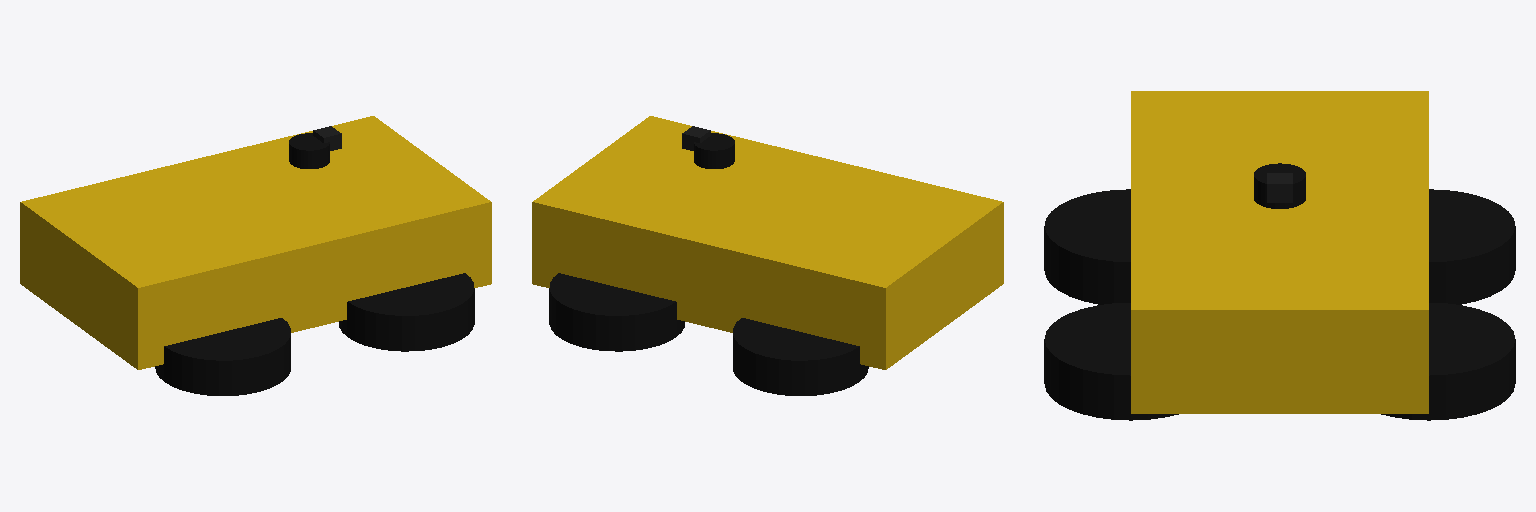
The robot description file, URDF, robot "husky":
<?xml version="1.0"?>
<!--
  Clearpath Husky A200 — self-contained URDF for autosim.

  Dimensions follow Clearpath husky_description (approx. A200):
  https://github.com/husky/husky

  Uses primitive shapes instead of package:// meshes so Habitat / CI can load
  without downloading DAE/STL assets.
-->
<robot name="husky">

  <!-- ===================== Links ===================== -->

  <link name="base_footprint"/>

  <!-- Chassis ~0.99 x 0.67 x 0.20 m; wheel center height ~0.165 m -->
  <link name="base_link">
    <visual>
      <origin xyz="0 0 0.11" rpy="0 0 0"/>
      <geometry>
        <box size="0.987 0.570 0.220"/>
      </geometry>
      <material name="yellow">
        <color rgba="0.85 0.70 0.10 1"/>
      </material>
    </visual>
    <collision>
      <origin xyz="0 0 0.11" rpy="0 0 0"/>
      <geometry>
        <box size="0.987 0.570 0.220"/>
      </geometry>
    </collision>
    <inertial>
      <origin xyz="0 0 0.11" rpy="0 0 0"/>
      <mass value="50.0"/>
      <inertia ixx="3.5" ixy="0.0" ixz="0.0" iyy="5.0" iyz="0.0" izz="6.0"/>
    </inertial>
  </link>

  <!-- Wheel radius 0.165 m, track ~0.555 m (y = ±0.2775) -->
  <link name="front_left_wheel_link">
    <visual>
      <origin xyz="0 0 0" rpy="1.57079632679 0 0"/>
      <geometry>
        <cylinder length="0.095" radius="0.165"/>
      </geometry>
      <material name="black">
        <color rgba="0.1 0.1 0.1 1"/>
      </material>
    </visual>
    <collision>
      <origin xyz="0 0 0" rpy="1.57079632679 0 0"/>
      <geometry>
        <cylinder length="0.095" radius="0.165"/>
      </geometry>
    </collision>
    <inertial>
      <mass value="2.5"/>
      <inertia ixx="0.03" ixy="0.0" ixz="0.0" iyy="0.03" iyz="0.0" izz="0.05"/>
    </inertial>
  </link>

  <link name="front_right_wheel_link">
    <visual>
      <origin xyz="0 0 0" rpy="1.57079632679 0 0"/>
      <geometry>
        <cylinder length="0.095" radius="0.165"/>
      </geometry>
      <material name="black">
        <color rgba="0.1 0.1 0.1 1"/>
      </material>
    </visual>
    <collision>
      <origin xyz="0 0 0" rpy="1.57079632679 0 0"/>
      <geometry>
        <cylinder length="0.095" radius="0.165"/>
      </geometry>
    </collision>
    <inertial>
      <mass value="2.5"/>
      <inertia ixx="0.03" ixy="0.0" ixz="0.0" iyy="0.03" iyz="0.0" izz="0.05"/>
    </inertial>
  </link>

  <link name="rear_left_wheel_link">
    <visual>
      <origin xyz="0 0 0" rpy="1.57079632679 0 0"/>
      <geometry>
        <cylinder length="0.095" radius="0.165"/>
      </geometry>
      <material name="black">
        <color rgba="0.1 0.1 0.1 1"/>
      </material>
    </visual>
    <collision>
      <origin xyz="0 0 0" rpy="1.57079632679 0 0"/>
      <geometry>
        <cylinder length="0.095" radius="0.165"/>
      </geometry>
    </collision>
    <inertial>
      <mass value="2.5"/>
      <inertia ixx="0.03" ixy="0.0" ixz="0.0" iyy="0.03" iyz="0.0" izz="0.05"/>
    </inertial>
  </link>

  <link name="rear_right_wheel_link">
    <visual>
      <origin xyz="0 0 0" rpy="1.57079632679 0 0"/>
      <geometry>
        <cylinder length="0.095" radius="0.165"/>
      </geometry>
      <material name="black">
        <color rgba="0.1 0.1 0.1 1"/>
      </material>
    </visual>
    <collision>
      <origin xyz="0 0 0" rpy="1.57079632679 0 0"/>
      <geometry>
        <cylinder length="0.095" radius="0.165"/>
      </geometry>
    </collision>
    <inertial>
      <mass value="2.5"/>
      <inertia ixx="0.03" ixy="0.0" ixz="0.0" iyy="0.03" iyz="0.0" izz="0.05"/>
    </inertial>
  </link>

  <link name="imu_link">
    <visual>
      <geometry>
        <box size="0.04 0.04 0.02"/>
      </geometry>
    </visual>
    <inertial>
      <mass value="0.05"/>
      <inertia ixx="1.0e-05" ixy="0.0" ixz="0.0" iyy="1.0e-05" iyz="0.0" izz="1.0e-05"/>
    </inertial>
  </link>

  <!-- Top-deck 2D lidar mount (typical user payload height) -->
  <link name="base_scan">
    <visual>
      <origin xyz="0 0 0.02" rpy="0 0 0"/>
      <geometry>
        <cylinder length="0.05" radius="0.05"/>
      </geometry>
      <material name="black">
        <color rgba="0.1 0.1 0.1 1"/>
      </material>
    </visual>
    <collision>
      <origin xyz="0 0 0.02" rpy="0 0 0"/>
      <geometry>
        <cylinder length="0.05" radius="0.05"/>
      </geometry>
    </collision>
    <inertial>
      <mass value="0.4"/>
      <inertia ixx="1.0e-03" ixy="0.0" ixz="0.0" iyy="1.0e-03" iyz="0.0" izz="1.0e-03"/>
    </inertial>
  </link>

  <link name="laser_link"/>

  <link name="camera_link">
    <visual>
      <origin xyz="0 0 0.02" rpy="0 0 0"/>
      <geometry>
        <box size="0.05 0.05 0.04"/>
      </geometry>
      <material name="black">
        <color rgba="0.15 0.15 0.15 1"/>
      </material>
    </visual>
    <collision>
      <origin xyz="0 0 0.02" rpy="0 0 0"/>
      <geometry>
        <box size="0.05 0.05 0.04"/>
      </geometry>
    </collision>
    <inertial>
      <mass value="0.2"/>
      <inertia ixx="2.0e-04" ixy="0.0" ixz="0.0" iyy="2.0e-04" iyz="0.0" izz="2.0e-04"/>
    </inertial>
  </link>

  <!-- ===================== Joints ===================== -->

  <joint name="base_joint" type="fixed">
    <parent link="base_footprint"/>
    <child link="base_link"/>
    <origin xyz="0 0 0.165" rpy="0 0 0"/>
  </joint>

  <!-- Wheelbase ~0.512 m (x = ±0.256), track ~0.555 m (y = ±0.2775) -->
  <joint name="front_left_wheel_joint" type="continuous">
    <parent link="base_link"/>
    <child link="front_left_wheel_link"/>
    <origin xyz="0.256 0.285 -0.0" rpy="-1.57079632679 0 0"/>
    <axis xyz="0 0 1"/>
  </joint>

  <joint name="front_right_wheel_joint" type="continuous">
    <parent link="base_link"/>
    <child link="front_right_wheel_link"/>
    <origin xyz="0.256 -0.285 -0.0" rpy="-1.57079632679 0 0"/>
    <axis xyz="0 0 1"/>
  </joint>

  <joint name="rear_left_wheel_joint" type="continuous">
    <parent link="base_link"/>
    <child link="rear_left_wheel_link"/>
    <origin xyz="-0.256 0.285 -0.0" rpy="-1.57079632679 0 0"/>
    <axis xyz="0 0 1"/>
  </joint>

  <joint name="rear_right_wheel_joint" type="continuous">
    <parent link="base_link"/>
    <child link="rear_right_wheel_link"/>
    <origin xyz="-0.256 -0.285 -0.0" rpy="-1.57079632679 0 0"/>
    <axis xyz="0 0 1"/>
  </joint>

  <joint name="imu_joint" type="fixed">
    <parent link="base_link"/>
    <child link="imu_link"/>
    <origin xyz="0.1 0 0.18" rpy="0 0 0"/>
  </joint>

  <joint name="scan_joint" type="fixed">
    <parent link="base_link"/>
    <child link="base_scan"/>
    <origin xyz="0.15 0 0.30" rpy="0 0 0"/>
  </joint>

  <joint name="laser_joint" type="fixed">
    <parent link="base_scan"/>
    <child link="laser_link"/>
    <origin xyz="0 0 0" rpy="0 0 0"/>
  </joint>

  <joint name="camera_joint" type="fixed">
    <parent link="base_link"/>
    <child link="camera_link"/>
    <origin xyz="0.20 0 0.32" rpy="0 0 0"/>
  </joint>

</robot>

--- Render facts (derived) ---
The picture shows the robot from 3 angles, left to right: view 1: azimuth 30°, elevation 25°; view 2: azimuth 150°, elevation 25°; view 3: azimuth 270°, elevation 25°; orthographic projection.
Model husky with 10 links and 9 joints (4 continuous, 5 fixed), rooted at base_footprint, posed every joint at zero.
Links seen in each view (by area): view 1: base_link, front_right_wheel_link, rear_right_wheel_link, base_scan; view 2: base_link, front_left_wheel_link, rear_left_wheel_link, base_scan; view 3: base_link, front_left_wheel_link, front_right_wheel_link, rear_left_wheel_link, rear_right_wheel_link, base_scan, camera_link.
Boxes of the visible links, bbox=[...] form: base_link: bbox=[20, 116, 491, 369]; front_right_wheel_link: bbox=[339, 273, 474, 351]; rear_right_wheel_link: bbox=[155, 318, 290, 395]; base_scan: bbox=[289, 133, 329, 168]; base_link: bbox=[532, 116, 1003, 369]; front_left_wheel_link: bbox=[549, 273, 684, 351]; rear_left_wheel_link: bbox=[733, 318, 868, 395]; base_scan: bbox=[694, 133, 734, 168]; base_link: bbox=[1131, 91, 1428, 413]; front_left_wheel_link: bbox=[1381, 303, 1515, 420]; front_right_wheel_link: bbox=[1044, 303, 1178, 420]; rear_left_wheel_link: bbox=[1429, 189, 1515, 304]; rear_right_wheel_link: bbox=[1044, 189, 1130, 304]; base_scan: bbox=[1254, 163, 1305, 208]; camera_link: bbox=[1267, 173, 1292, 202].
Size in the robot's own frame: 0.987 by 0.9 by 0.4075 metres.
Geometry: primitives only (box / cylinder / sphere), no mesh files.
